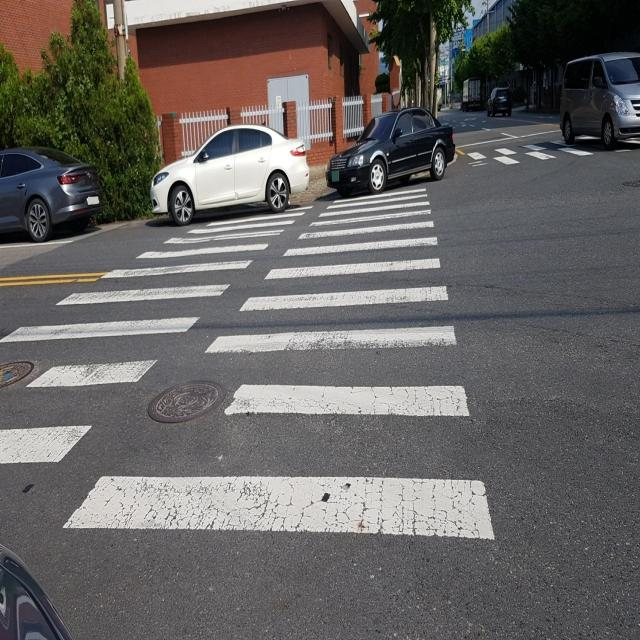횡단보도: (0, 183, 497, 540), (464, 134, 640, 165)
